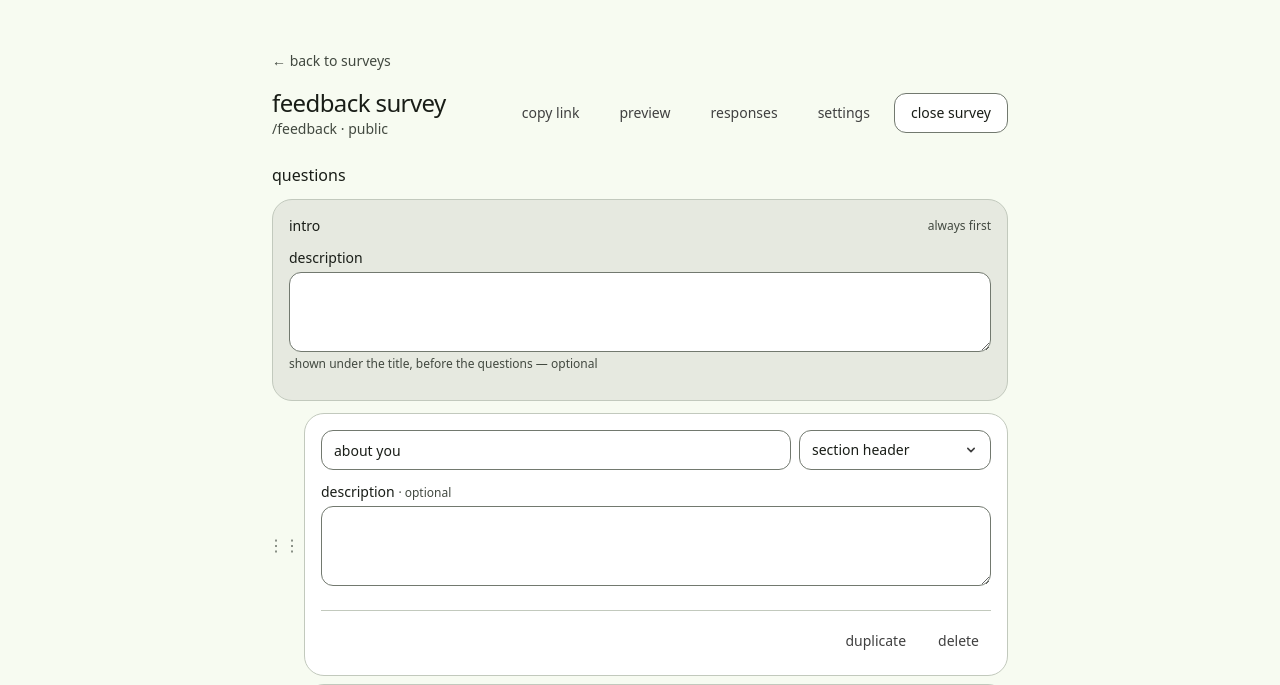
Test: SurveyBuilderScreen › says a deleted section header leaves its questions
The image size is (1280, 685).
Expected: the 1st field showing "about you" is shown, [321,430,791,470]
Click the 1st button "delete" at (958, 641), box [926,623,991,659]
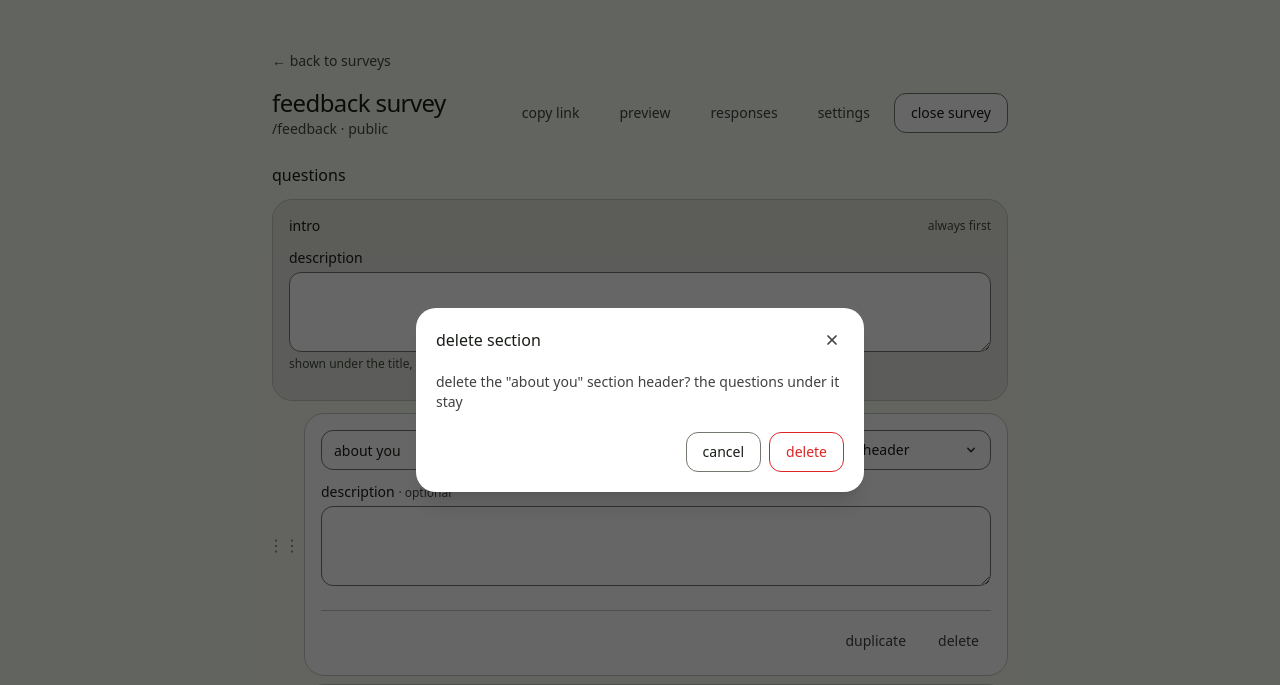
Now the dialog "delete section" shows "the questions under it stay", box [436,372,843,411]
